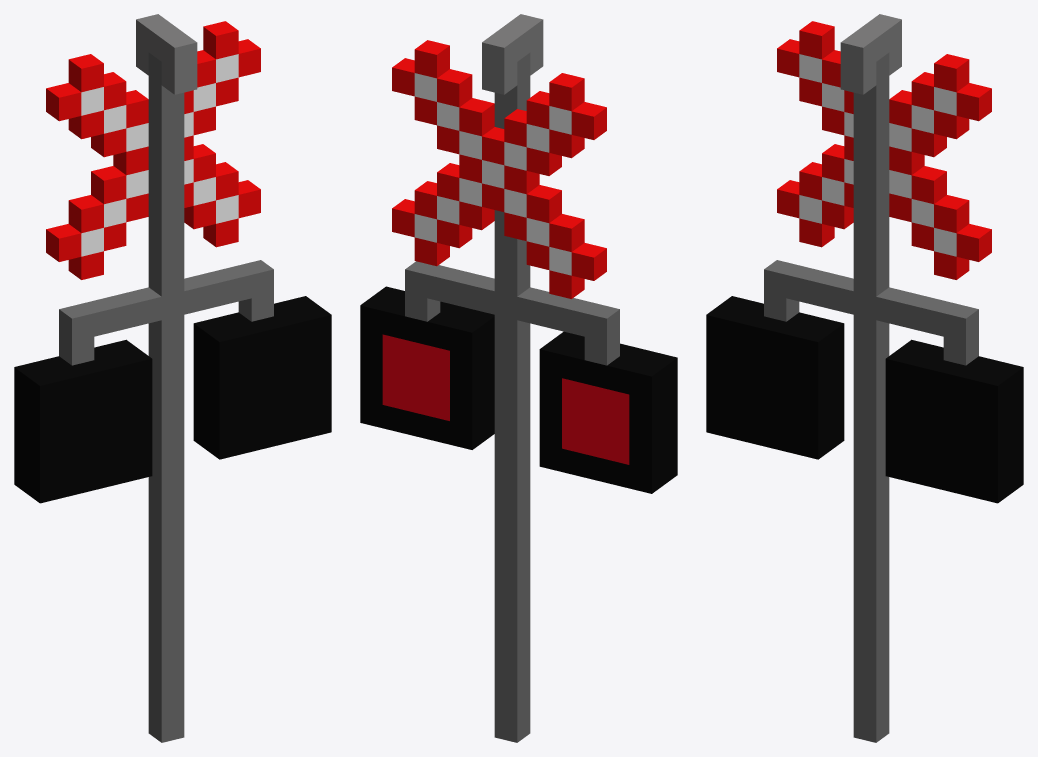
Rendered from railroad_crossing_light.dae.
3 views of the same model, side by side, from view 1: azimuth 30°, elevation 25°; view 2: azimuth 150°, elevation 25°; view 3: azimuth 330°, elevation 25° (orthographic).
Parts seen in each view (by area): view 1: PlaneCOL; view 2: PlaneCOL; view 3: PlaneCOL.
Part boxes in pixels (x1,y1,x2,y2): PlaneCOL: (14,14,331,742); PlaneCOL: (360,14,677,742); PlaneCOL: (706,14,1023,742).
Bounding box in the file's own units: 1.3 × 0.3 × 3.
